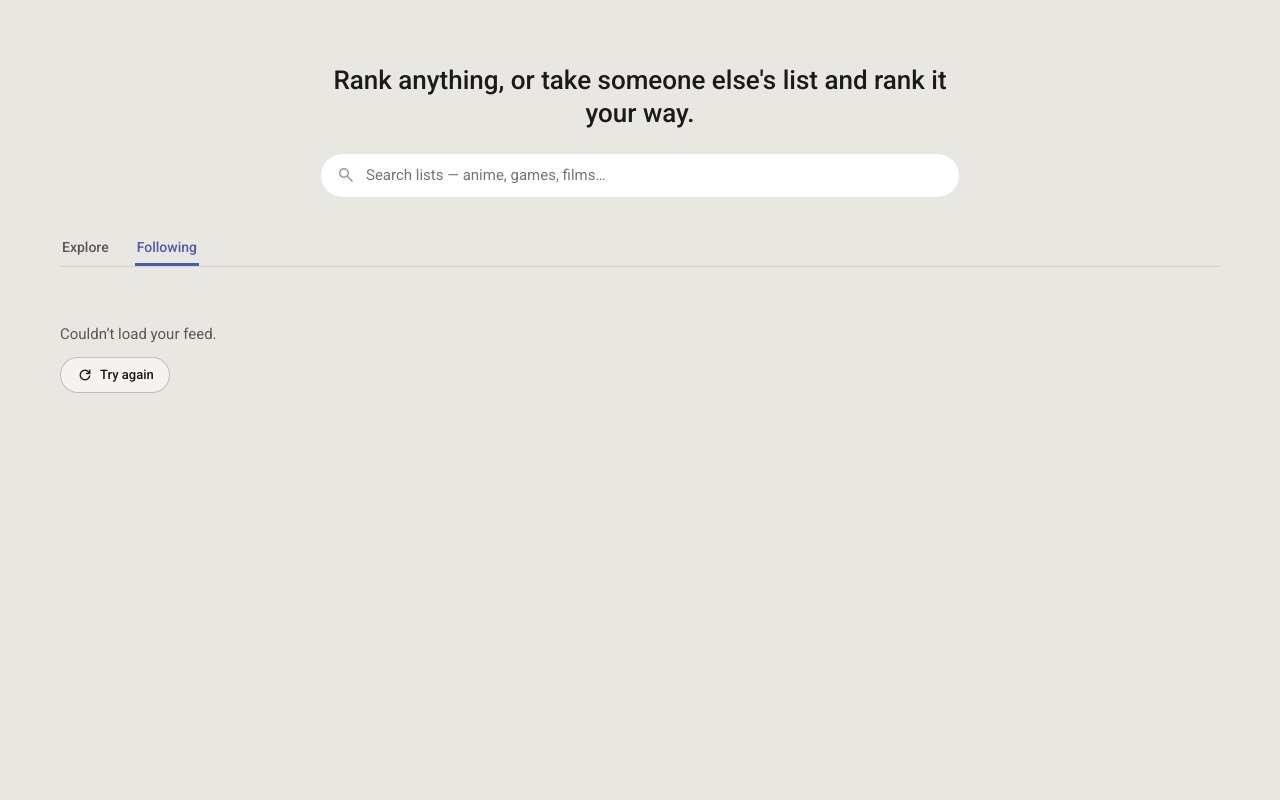
Scenario: the Following tab › names a feed that would not load, and tries again
Check: the message shows "Couldn’t load your feed.", box x1=60 y1=324 x2=216 y2=342
Click the button "Try again" at [115, 375], box x1=60 y1=357 x2=170 y2=393
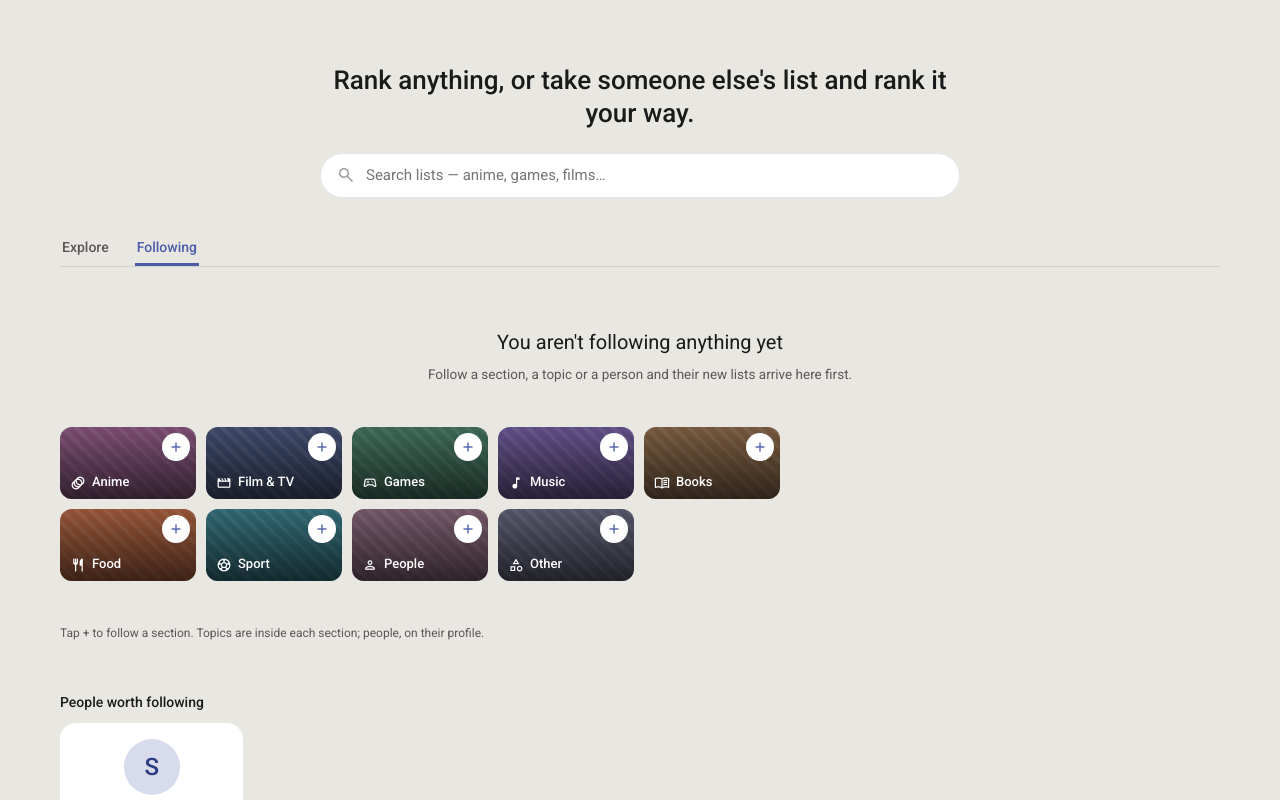
Check: the text "You aren't following anything yet" is shown, box x1=497 y1=328 x2=783 y2=354
